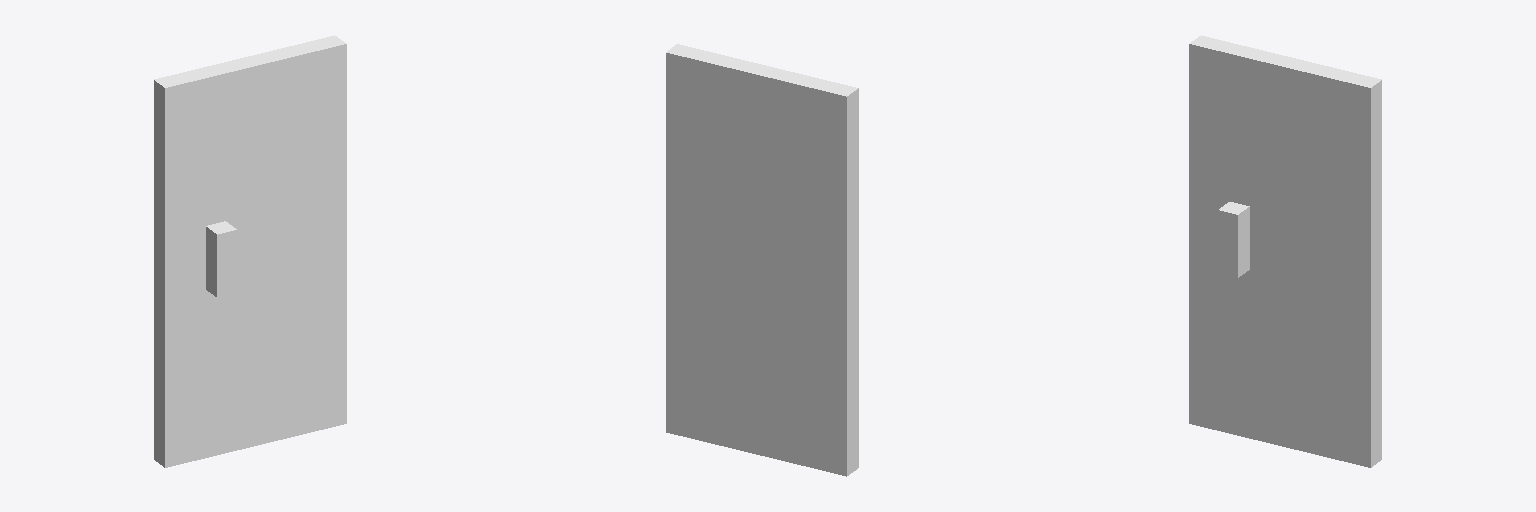
Rendered from WardrobeDoorRight.obj.
3 views of the same model, side by side, from view 1: azimuth 30°, elevation 25°; view 2: azimuth 150°, elevation 25°; view 3: azimuth 330°, elevation 25° (orthographic).
Visible parts, largest first — view 1: object 1; view 2: object 1; view 3: object 1.
Part boxes in pixels (x1,y1,x2,y2): object 1: (154, 35, 346, 467); object 1: (666, 44, 858, 476); object 1: (1189, 35, 1381, 467).
Size of the model in its own units: 0.9 by 1.8 by 0.2.